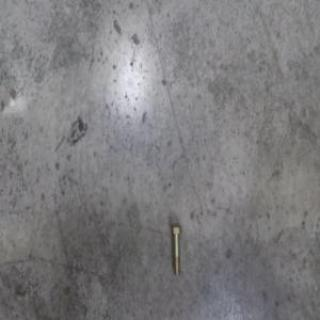Bolttrack_idkeyframe: (170, 223, 183, 277)
